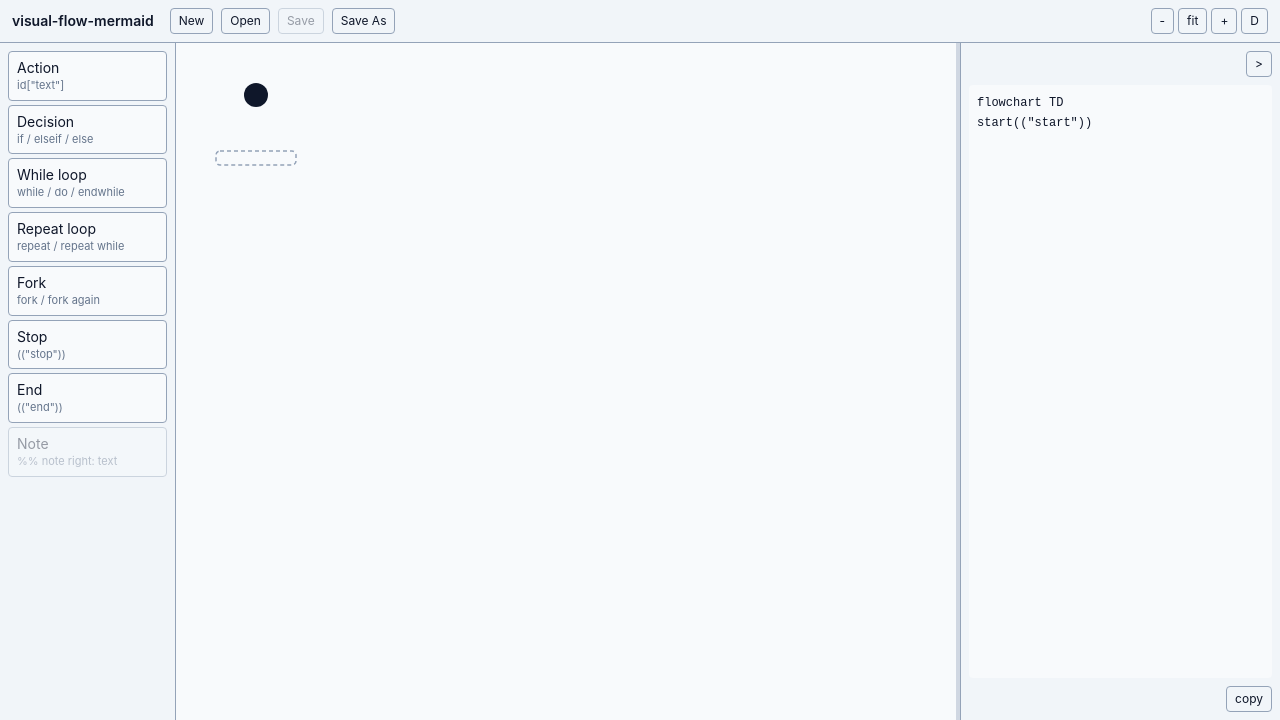
Scenario: Enter on a selection opens an editor for its primary field
Click the button "Action id[\"text\"]" at point(88, 76), box top-left (8, 51), bottom-right (167, 101)
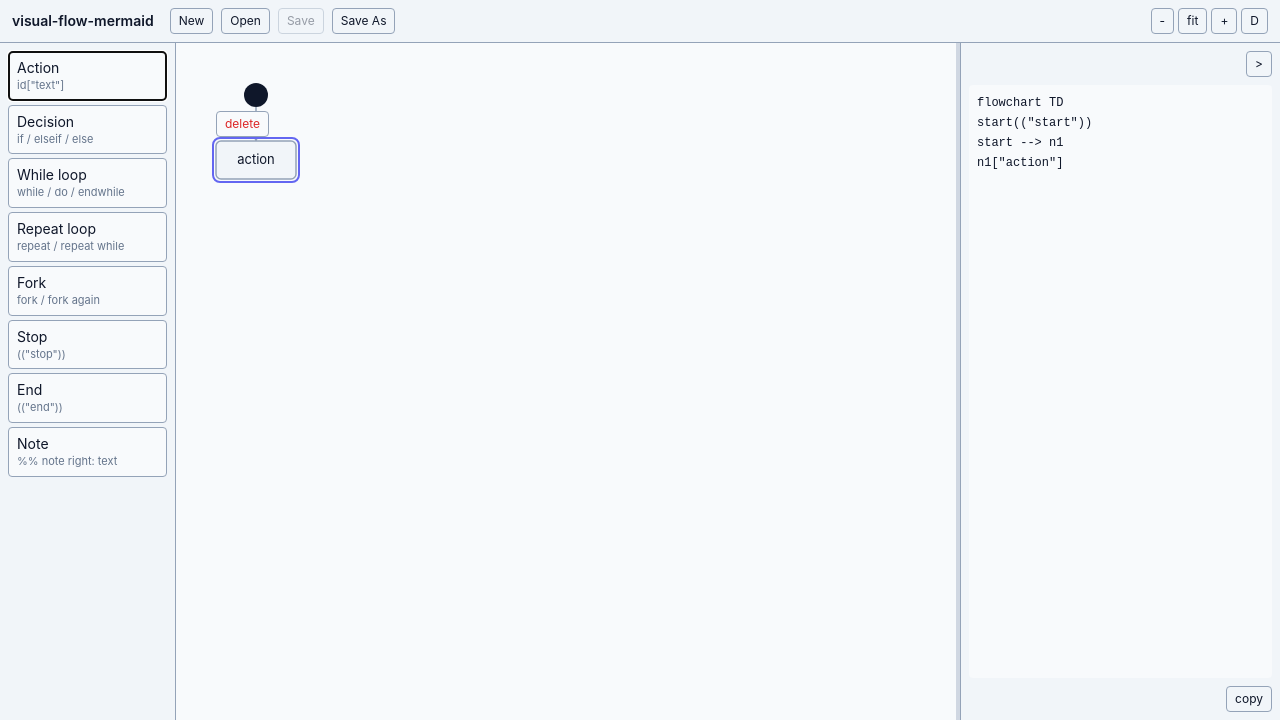
Press Enter
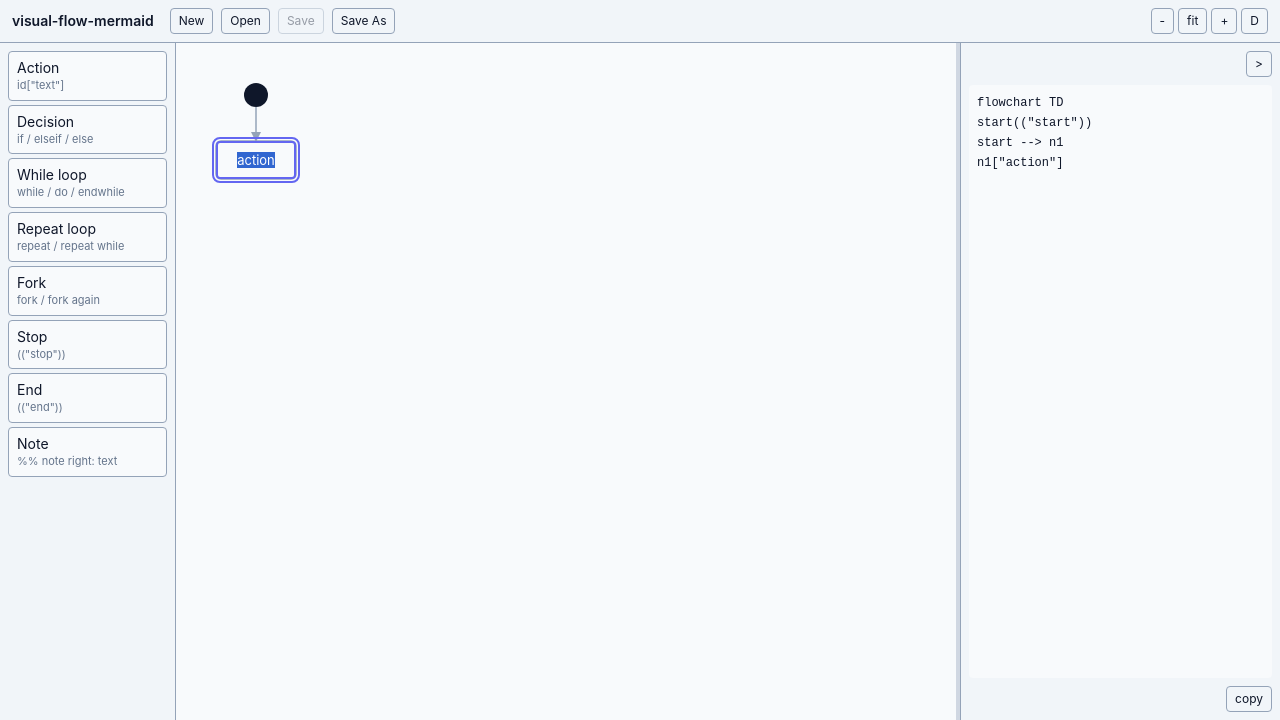
expect the field holds "action": met, box top-left (216, 141), bottom-right (296, 179)
